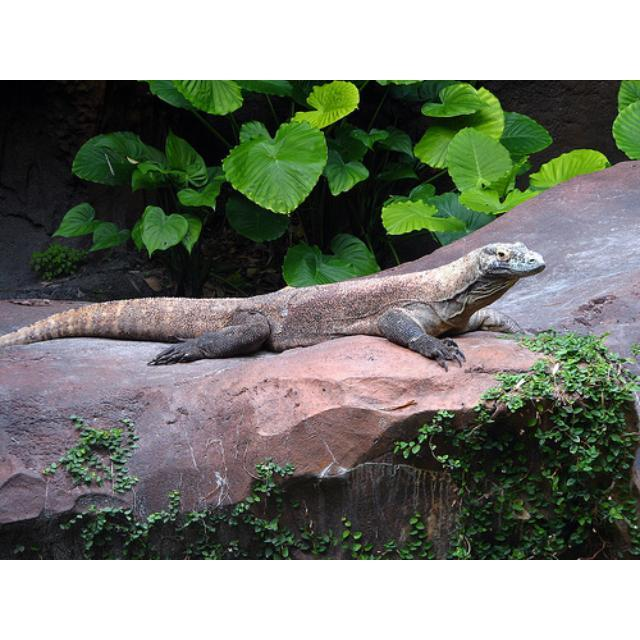KomodoDragon: (1, 238, 546, 374)
